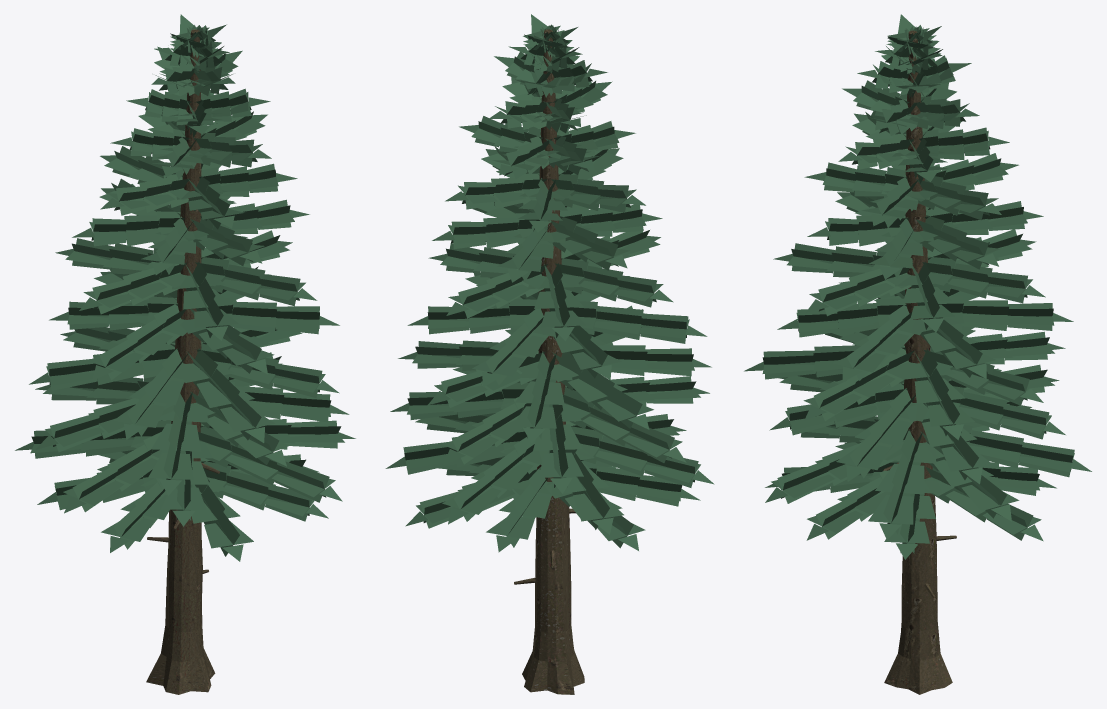
File: tree_pine_tall_v2.glb
The picture shows the model from 3 angles, left to right: view 1: azimuth 30°, elevation 25°; view 2: azimuth 150°, elevation 25°; view 3: azimuth 270°, elevation 25°; orthographic projection.
Parts seen in each view (by area): view 1: Pine_Foliage, Pine_Trunk; view 2: Pine_Foliage, Pine_Trunk; view 3: Pine_Foliage, Pine_Trunk.
Part boxes in pixels (x1,y1,x2,y2): Pine_Foliage: (15, 14, 355, 561); Pine_Trunk: (146, 29, 219, 694); Pine_Foliage: (385, 14, 714, 552); Pine_Trunk: (514, 29, 584, 694); Pine_Foliage: (744, 14, 1091, 559); Pine_Trunk: (883, 30, 956, 694).
Bounding box in the file's own units: 8.64 × 18.18 × 8.76.
Materials: 2 (1 with a texture image).
